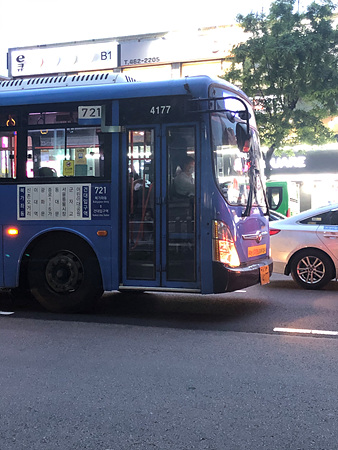entrance: (121, 120, 205, 292)
